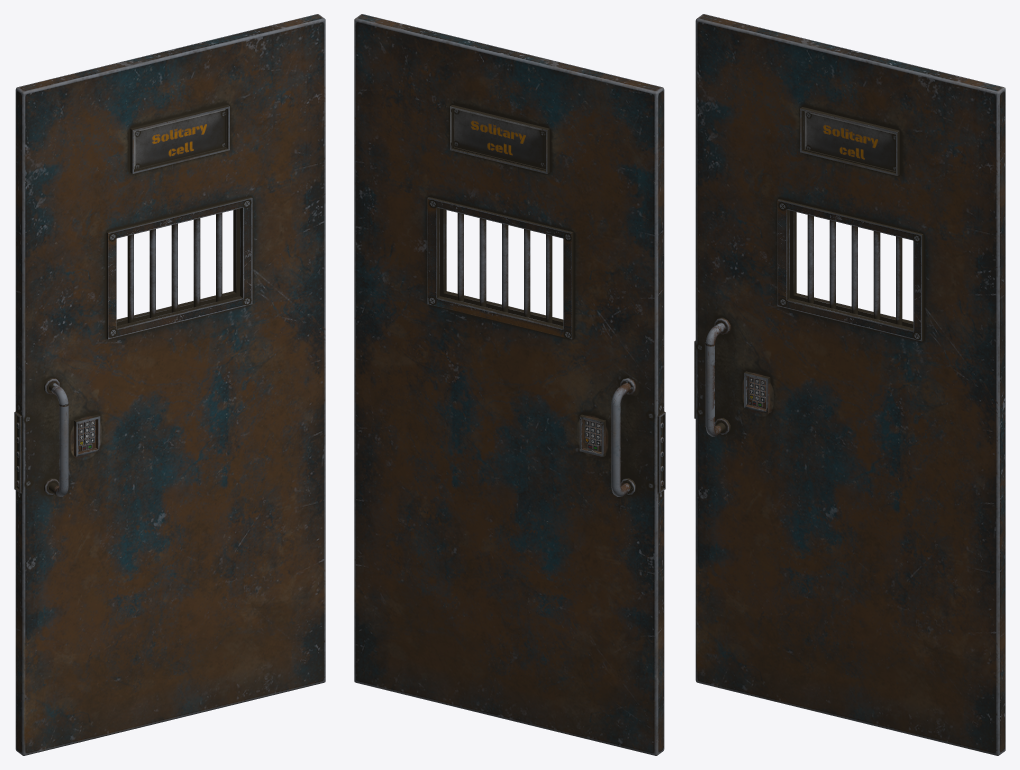
File: solitary_cell_door.glb
3 views of the same model, side by side, from view 1: azimuth 30°, elevation 25°; view 2: azimuth 150°, elevation 25°; view 3: azimuth 330°, elevation 25° (orthographic).
Visible parts, largest first — view 1: Symmetry; view 2: Symmetry; view 3: Symmetry.
Part boxes in pixels (x1,y1,x2,y2): Symmetry: (14, 14, 325, 755); Symmetry: (354, 14, 665, 755); Symmetry: (694, 14, 1005, 755).
Size of the model in its own units: 1.11 by 2.3 by 0.2414.
Materials: 1 (1 with a texture image).
